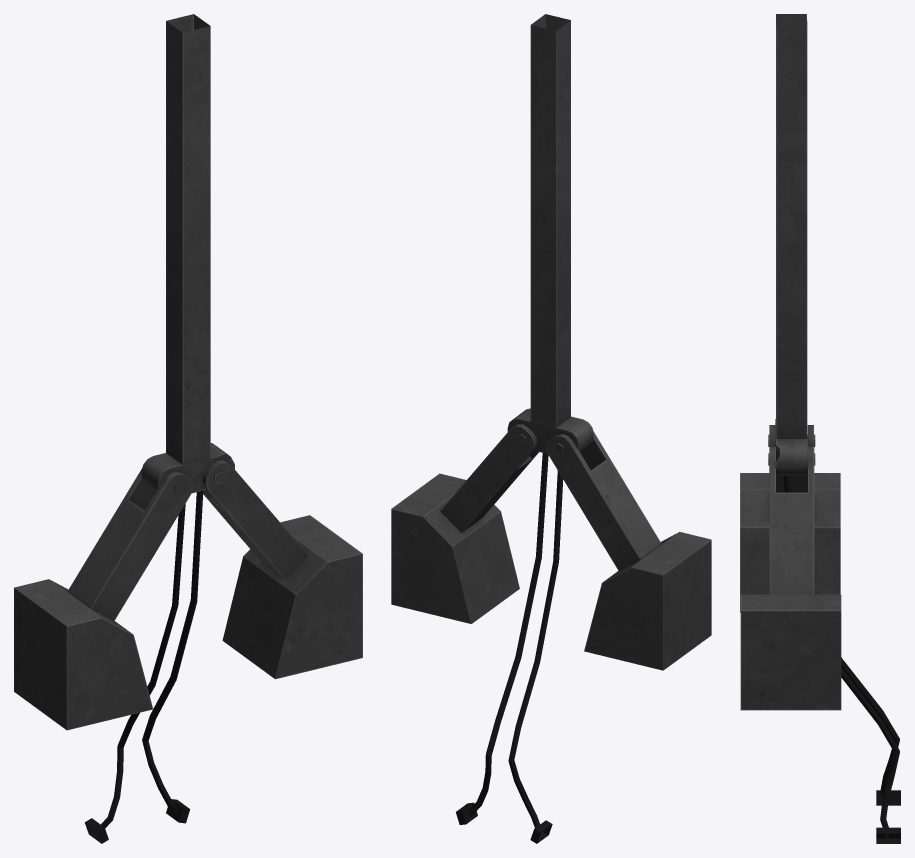
File: Monitor arm.fbx
3 views of the same model, side by side, from view 1: azimuth 30°, elevation 25°; view 2: azimuth 150°, elevation 25°; view 3: azimuth 270°, elevation 25° (orthographic). The views are drawn at different scales.
Parts seen in each view (by area): view 1: Monitorarm; view 2: Monitorarm; view 3: Monitorarm.
Boxes of the visible parts, left/top/right/bottom form: Monitorarm: left=14, top=14, right=362, bottom=843; Monitorarm: left=391, top=14, right=711, bottom=843; Monitorarm: left=740, top=14, right=900, bottom=843.
Size of the model in its own units: 94.69 by 257 by 46.65.
Materials: 1 (1 with a texture image).
